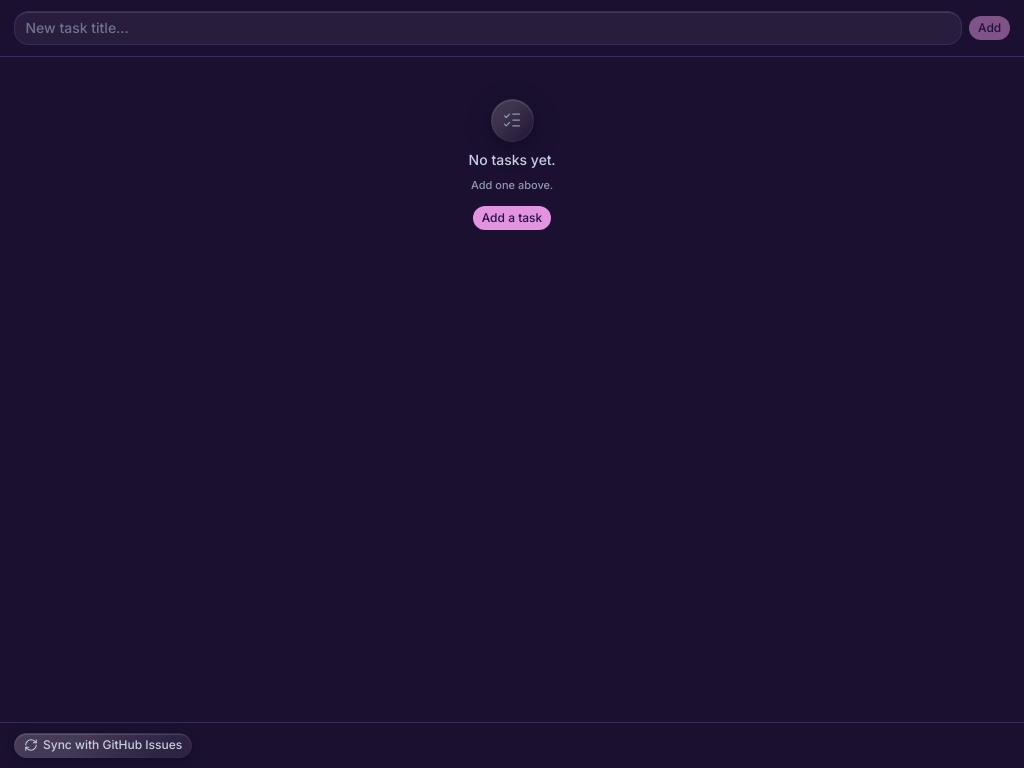
TasksTab — F-045 sync feedback › renders "Synced N issues" after a successful non-degraded sync
Click the button "Sync with GitHub Issues" at (103, 745), box left=14, top=733, right=192, bottom=758
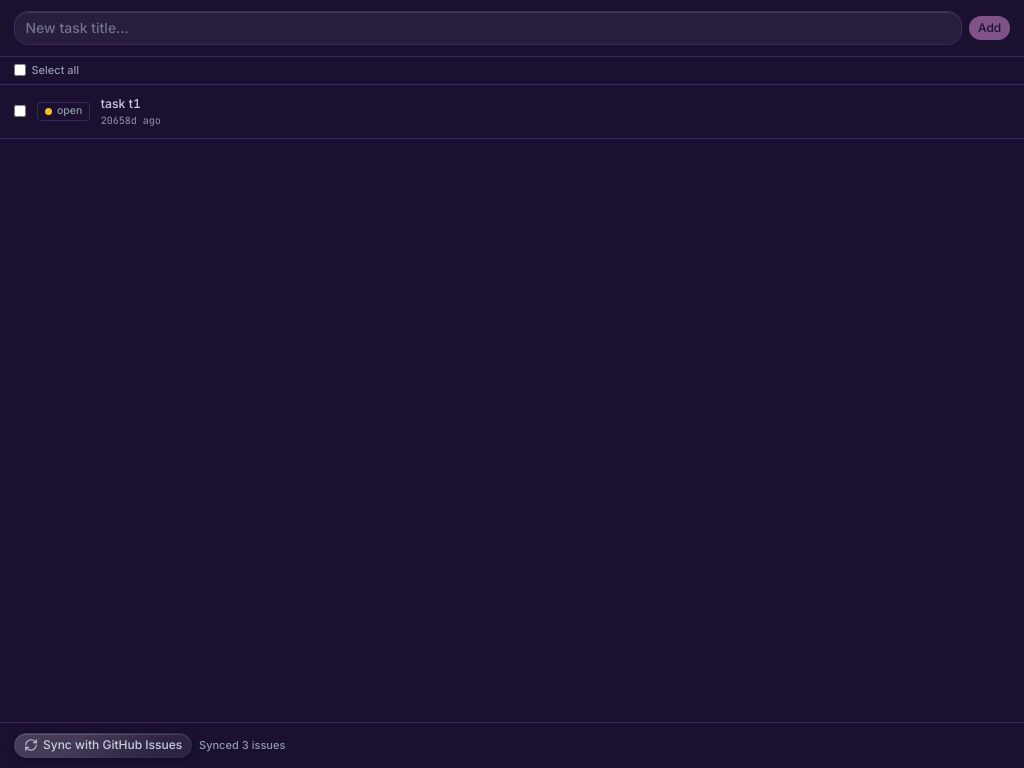
Expected: the text with test id "tasks-sync-result" reads "Synced 3 issues", left=199, top=738, right=285, bottom=752
